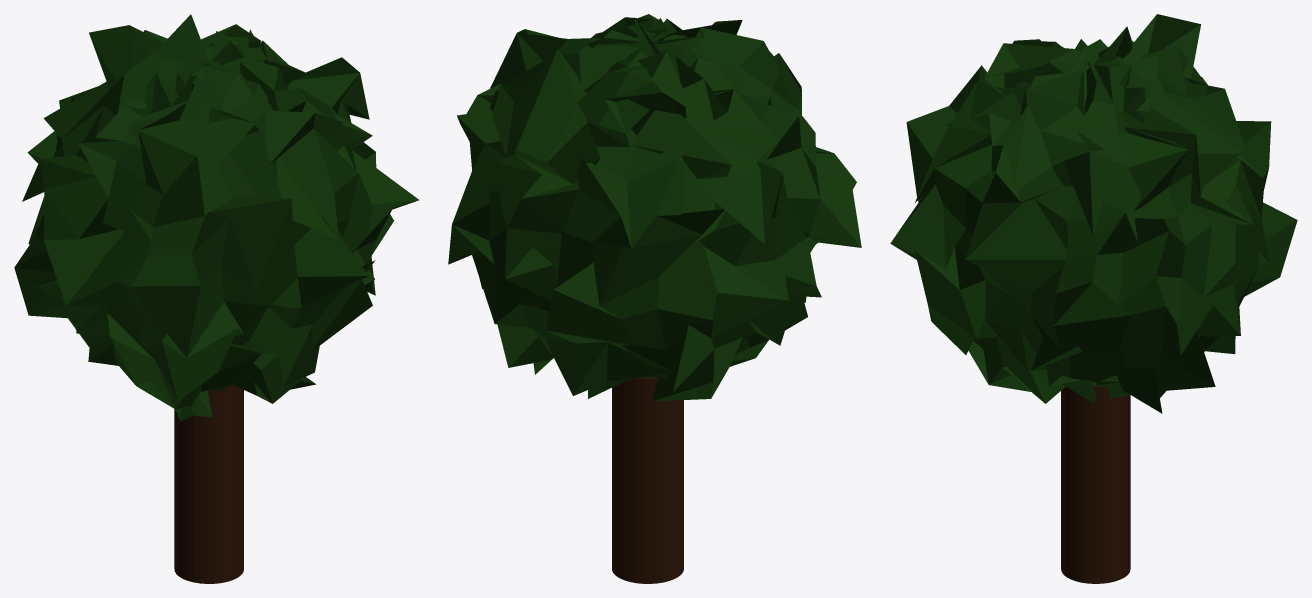
Rendered from baum.obj.
3 renders of one model, left to right at view 1: azimuth 30°, elevation 25°; view 2: azimuth 150°, elevation 25°; view 3: azimuth 270°, elevation 25°, orthographic. The views are drawn at different scales.
Parts seen in each view (by area): view 1: Sphere.012_Sphere.006, Cylinder.010_Cylinder.007; view 2: Sphere.012_Sphere.006, Cylinder.010_Cylinder.007; view 3: Sphere.012_Sphere.006, Cylinder.010_Cylinder.007.
Boxes of the visible parts, x1,y1,x2,y2 form: Sphere.012_Sphere.006: (14, 14, 419, 421); Cylinder.010_Cylinder.007: (174, 384, 243, 583); Sphere.012_Sphere.006: (448, 14, 861, 401); Cylinder.010_Cylinder.007: (612, 377, 683, 583); Sphere.012_Sphere.006: (890, 14, 1297, 413); Cylinder.010_Cylinder.007: (1061, 385, 1130, 583).
Size of the model in its own units: 12.56 by 19.3 by 13.14.
